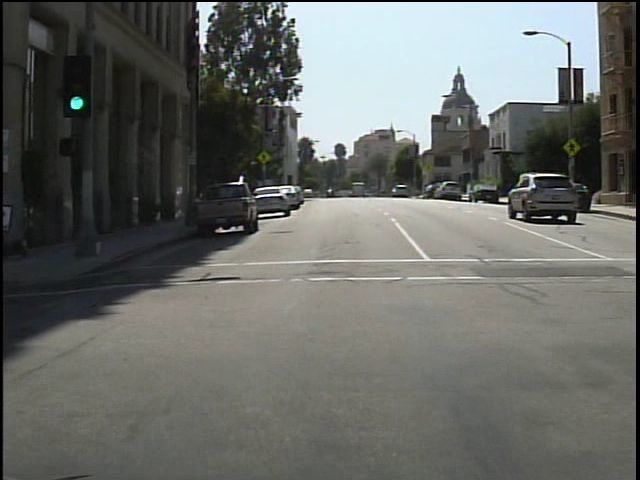person: (3, 162, 13, 275)
